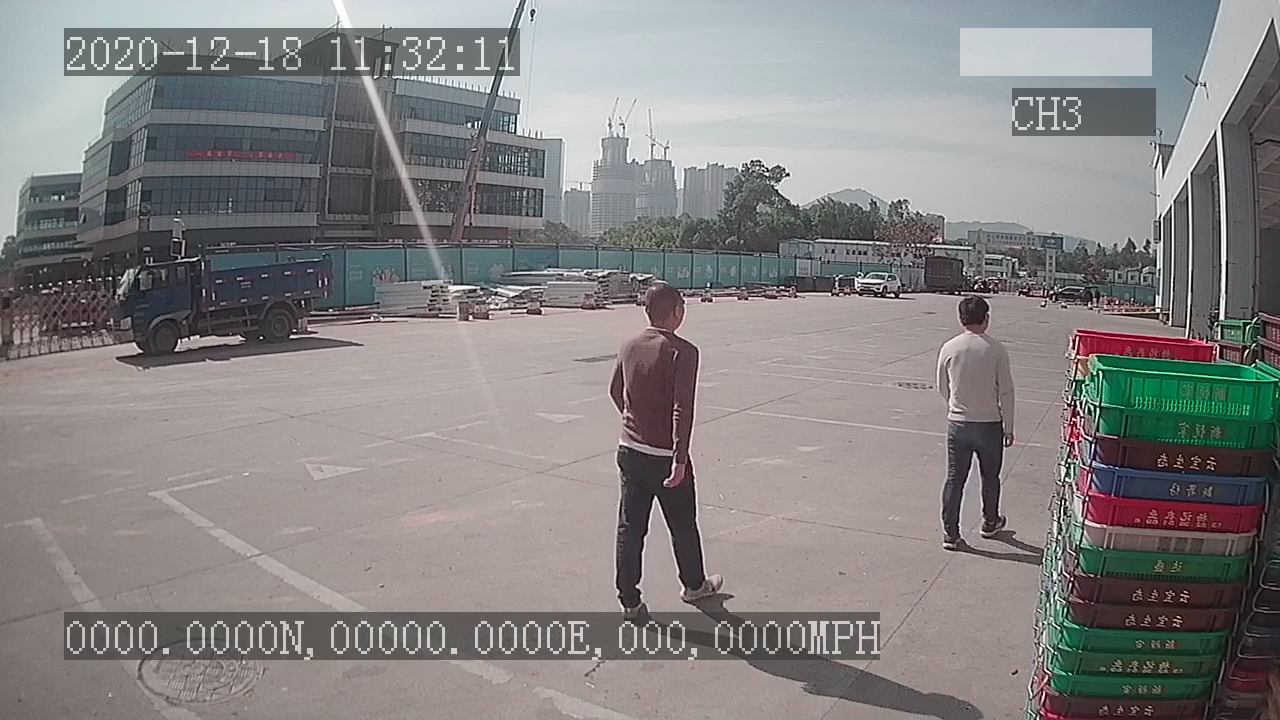person: (605, 282, 724, 613), (931, 295, 1021, 553)
